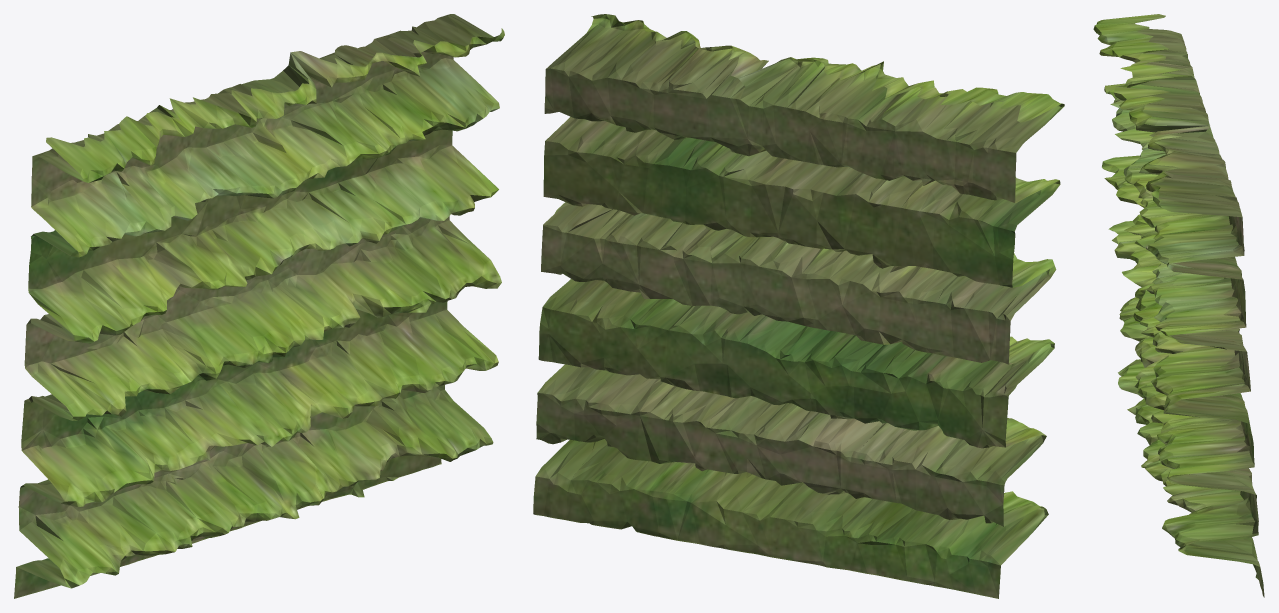
The model's file is map_20_50.obj.
3 renders of one model, left to right at view 1: azimuth 30°, elevation 25°; view 2: azimuth 150°, elevation 25°; view 3: azimuth 270°, elevation 25°, orthographic. The views are drawn at different scales.
Visible parts, largest first — view 1: grp1; view 2: grp1; view 3: grp1.
Boxes of the visible parts, box(x1,y1,x2,y2) form: grp1: box(14, 14, 504, 598); grp1: box(533, 14, 1064, 598); grp1: box(1093, 14, 1264, 597).
Bounding box in the file's own units: 10 × 10 × 3.89.
1 material, 1 textured.
